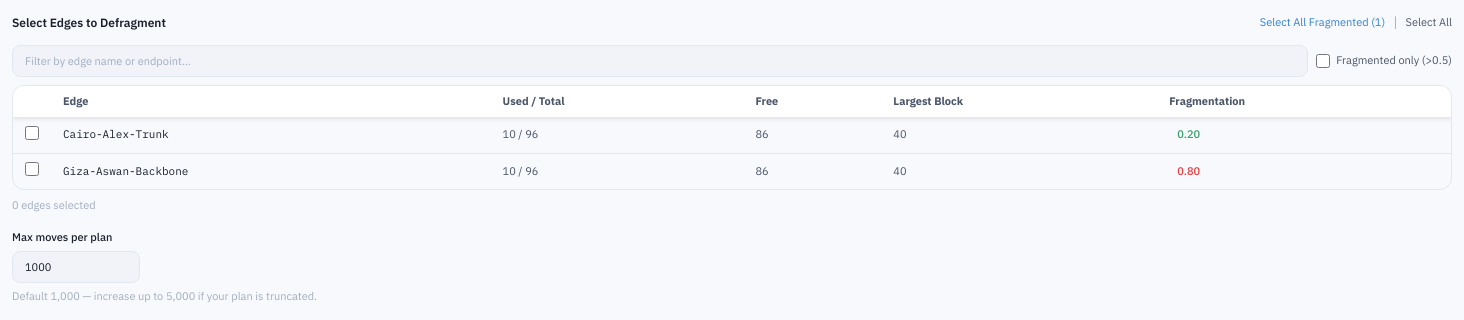
Scenario: DefragWizardSelect — search & filter › shows an empty-state message when no rows match
In the search field with test id "defrag-select-filter": (660,61) [12,45,1308,77], type "no-such-edge-name"
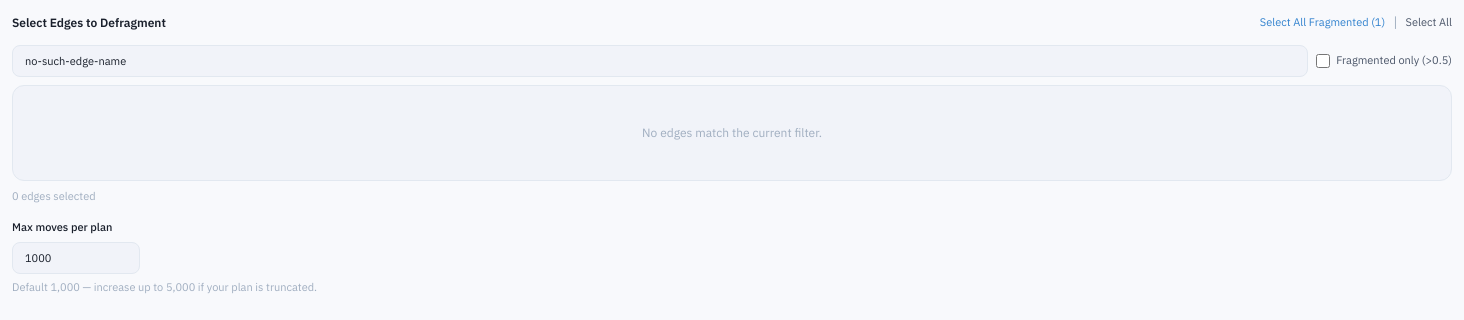
Result: the text "No edges match the current filter." is shown at [12,85,1452,181]
